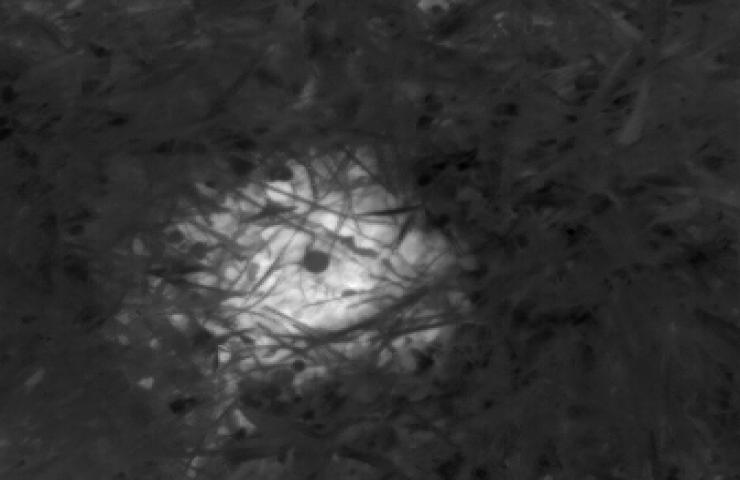landmines: (181, 149, 453, 385)
